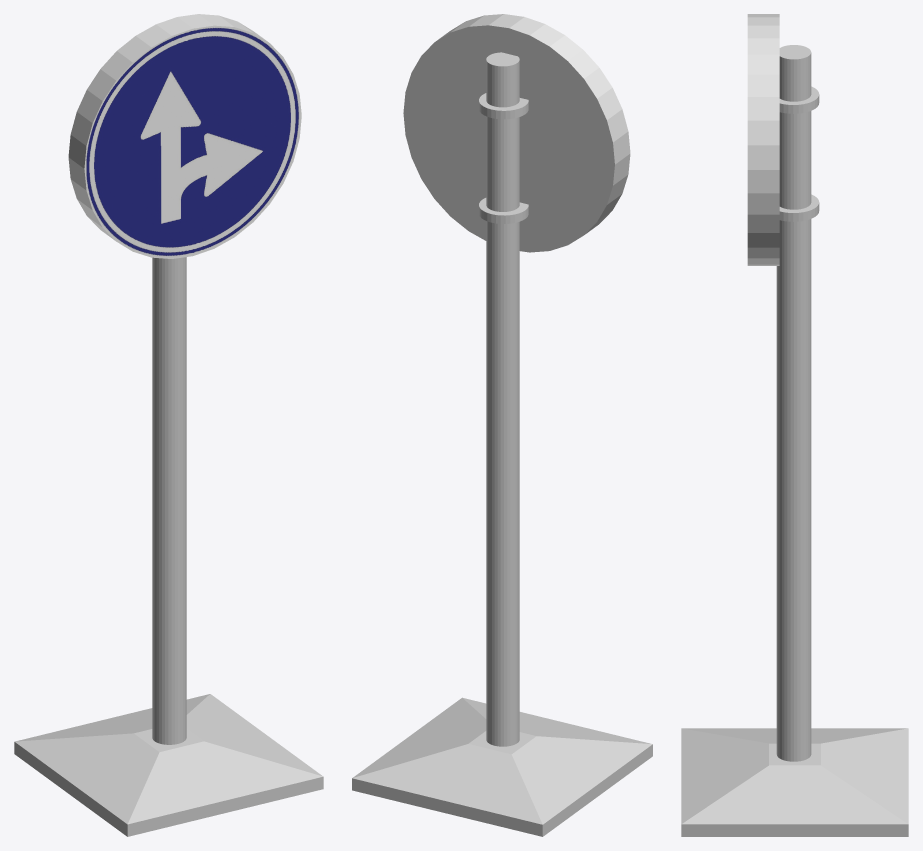
Rendered from ileri_sag.dae.
3 views of the same model, side by side, from view 1: azimuth 30°, elevation 25°; view 2: azimuth 150°, elevation 25°; view 3: azimuth 270°, elevation 25° (orthographic). The views are drawn at different scales.
Visible parts, largest first — view 1: Cylinder.001; view 2: Cylinder.001; view 3: Cylinder.001.
Part boxes in pixels (bbox=[...]): Cylinder.001: bbox=[14, 14, 323, 836]; Cylinder.001: bbox=[352, 14, 652, 836]; Cylinder.001: bbox=[681, 14, 908, 836].
Size of the model in its own units: 0.83 by 0.7483 by 2.77.
3 materials, 1 textured.
